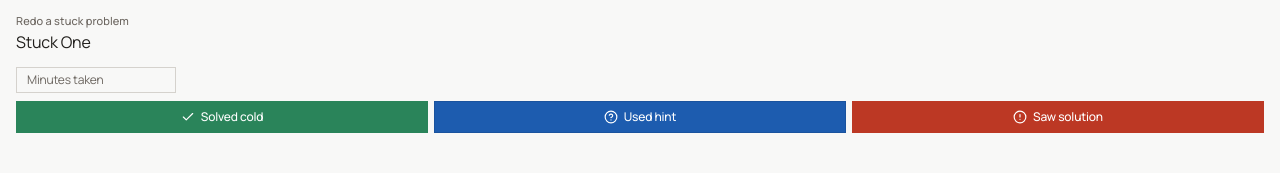
it: WeeklyPlanItems › records a redo with the same outcomes as Today
Click the button "Solved cold".
click(222, 116)  # box [16, 100, 428, 132]
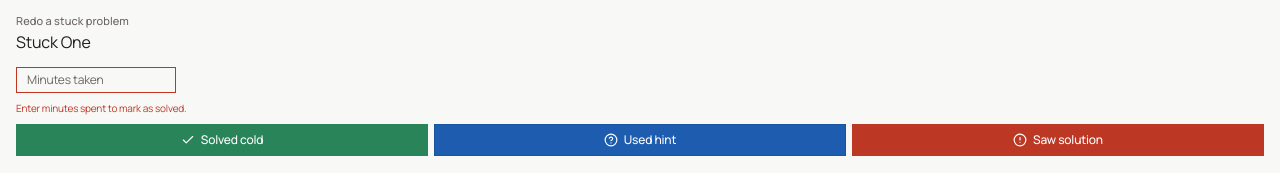
Check: the text "Enter minutes spent to mark as solved." is shown, box [16, 100, 186, 114]
Type "20" into the number field with placeholder "Minutes taken".
click(96, 80); type("20")  # box [16, 66, 176, 92]
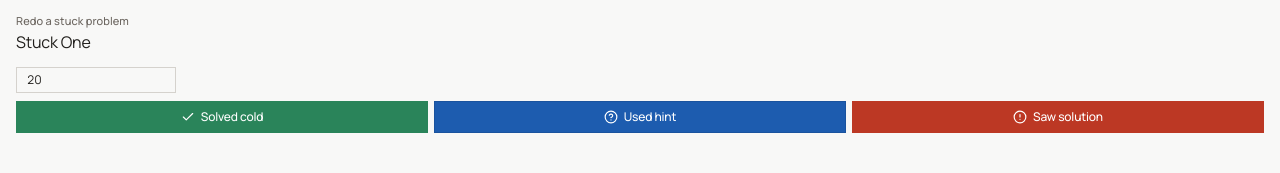
Click the button "Solved cold".
click(222, 116)  # box [16, 100, 428, 132]
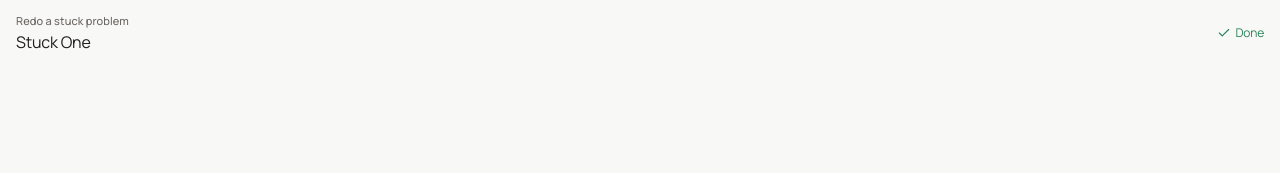
Check: the text "Done" is shown, box [1217, 25, 1264, 41]
